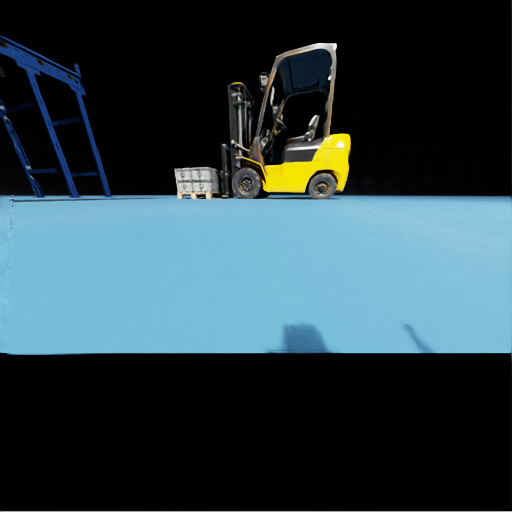transportation_area: (192, 180, 222, 191)
